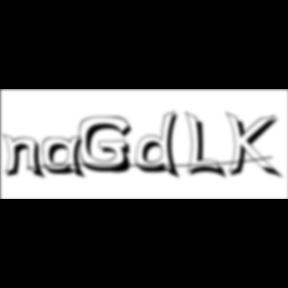G: (79, 116, 138, 176)
K: (225, 110, 284, 182)
L: (186, 110, 230, 182)
a: (42, 135, 90, 182)
d: (136, 110, 186, 182)
n: (2, 132, 50, 181)
